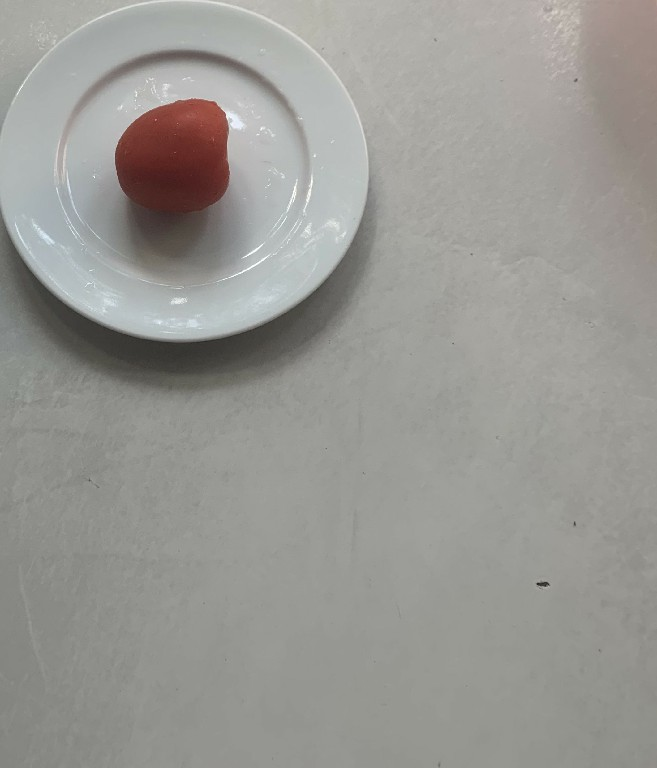OK: (108, 95, 231, 222)
